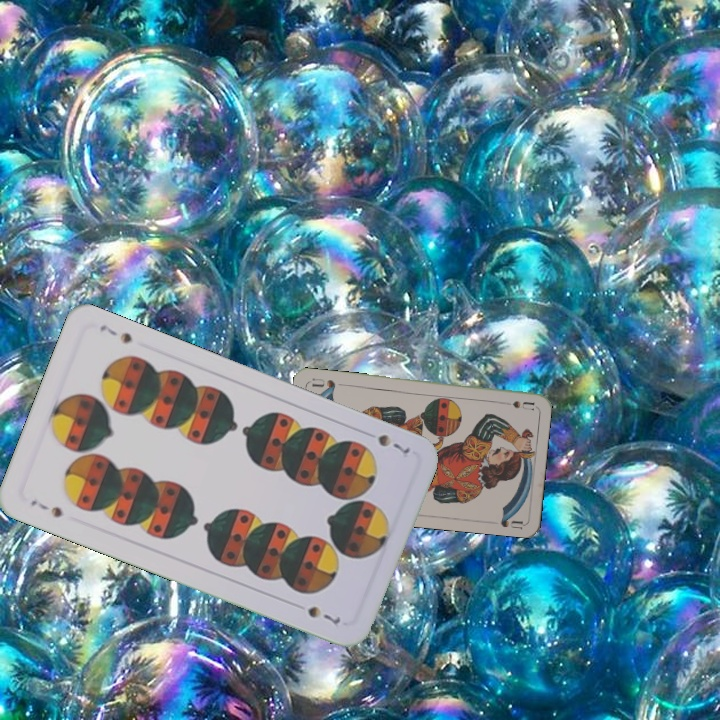S7: (373, 430, 413, 458), (26, 495, 65, 521)
SU: (495, 397, 536, 412)
